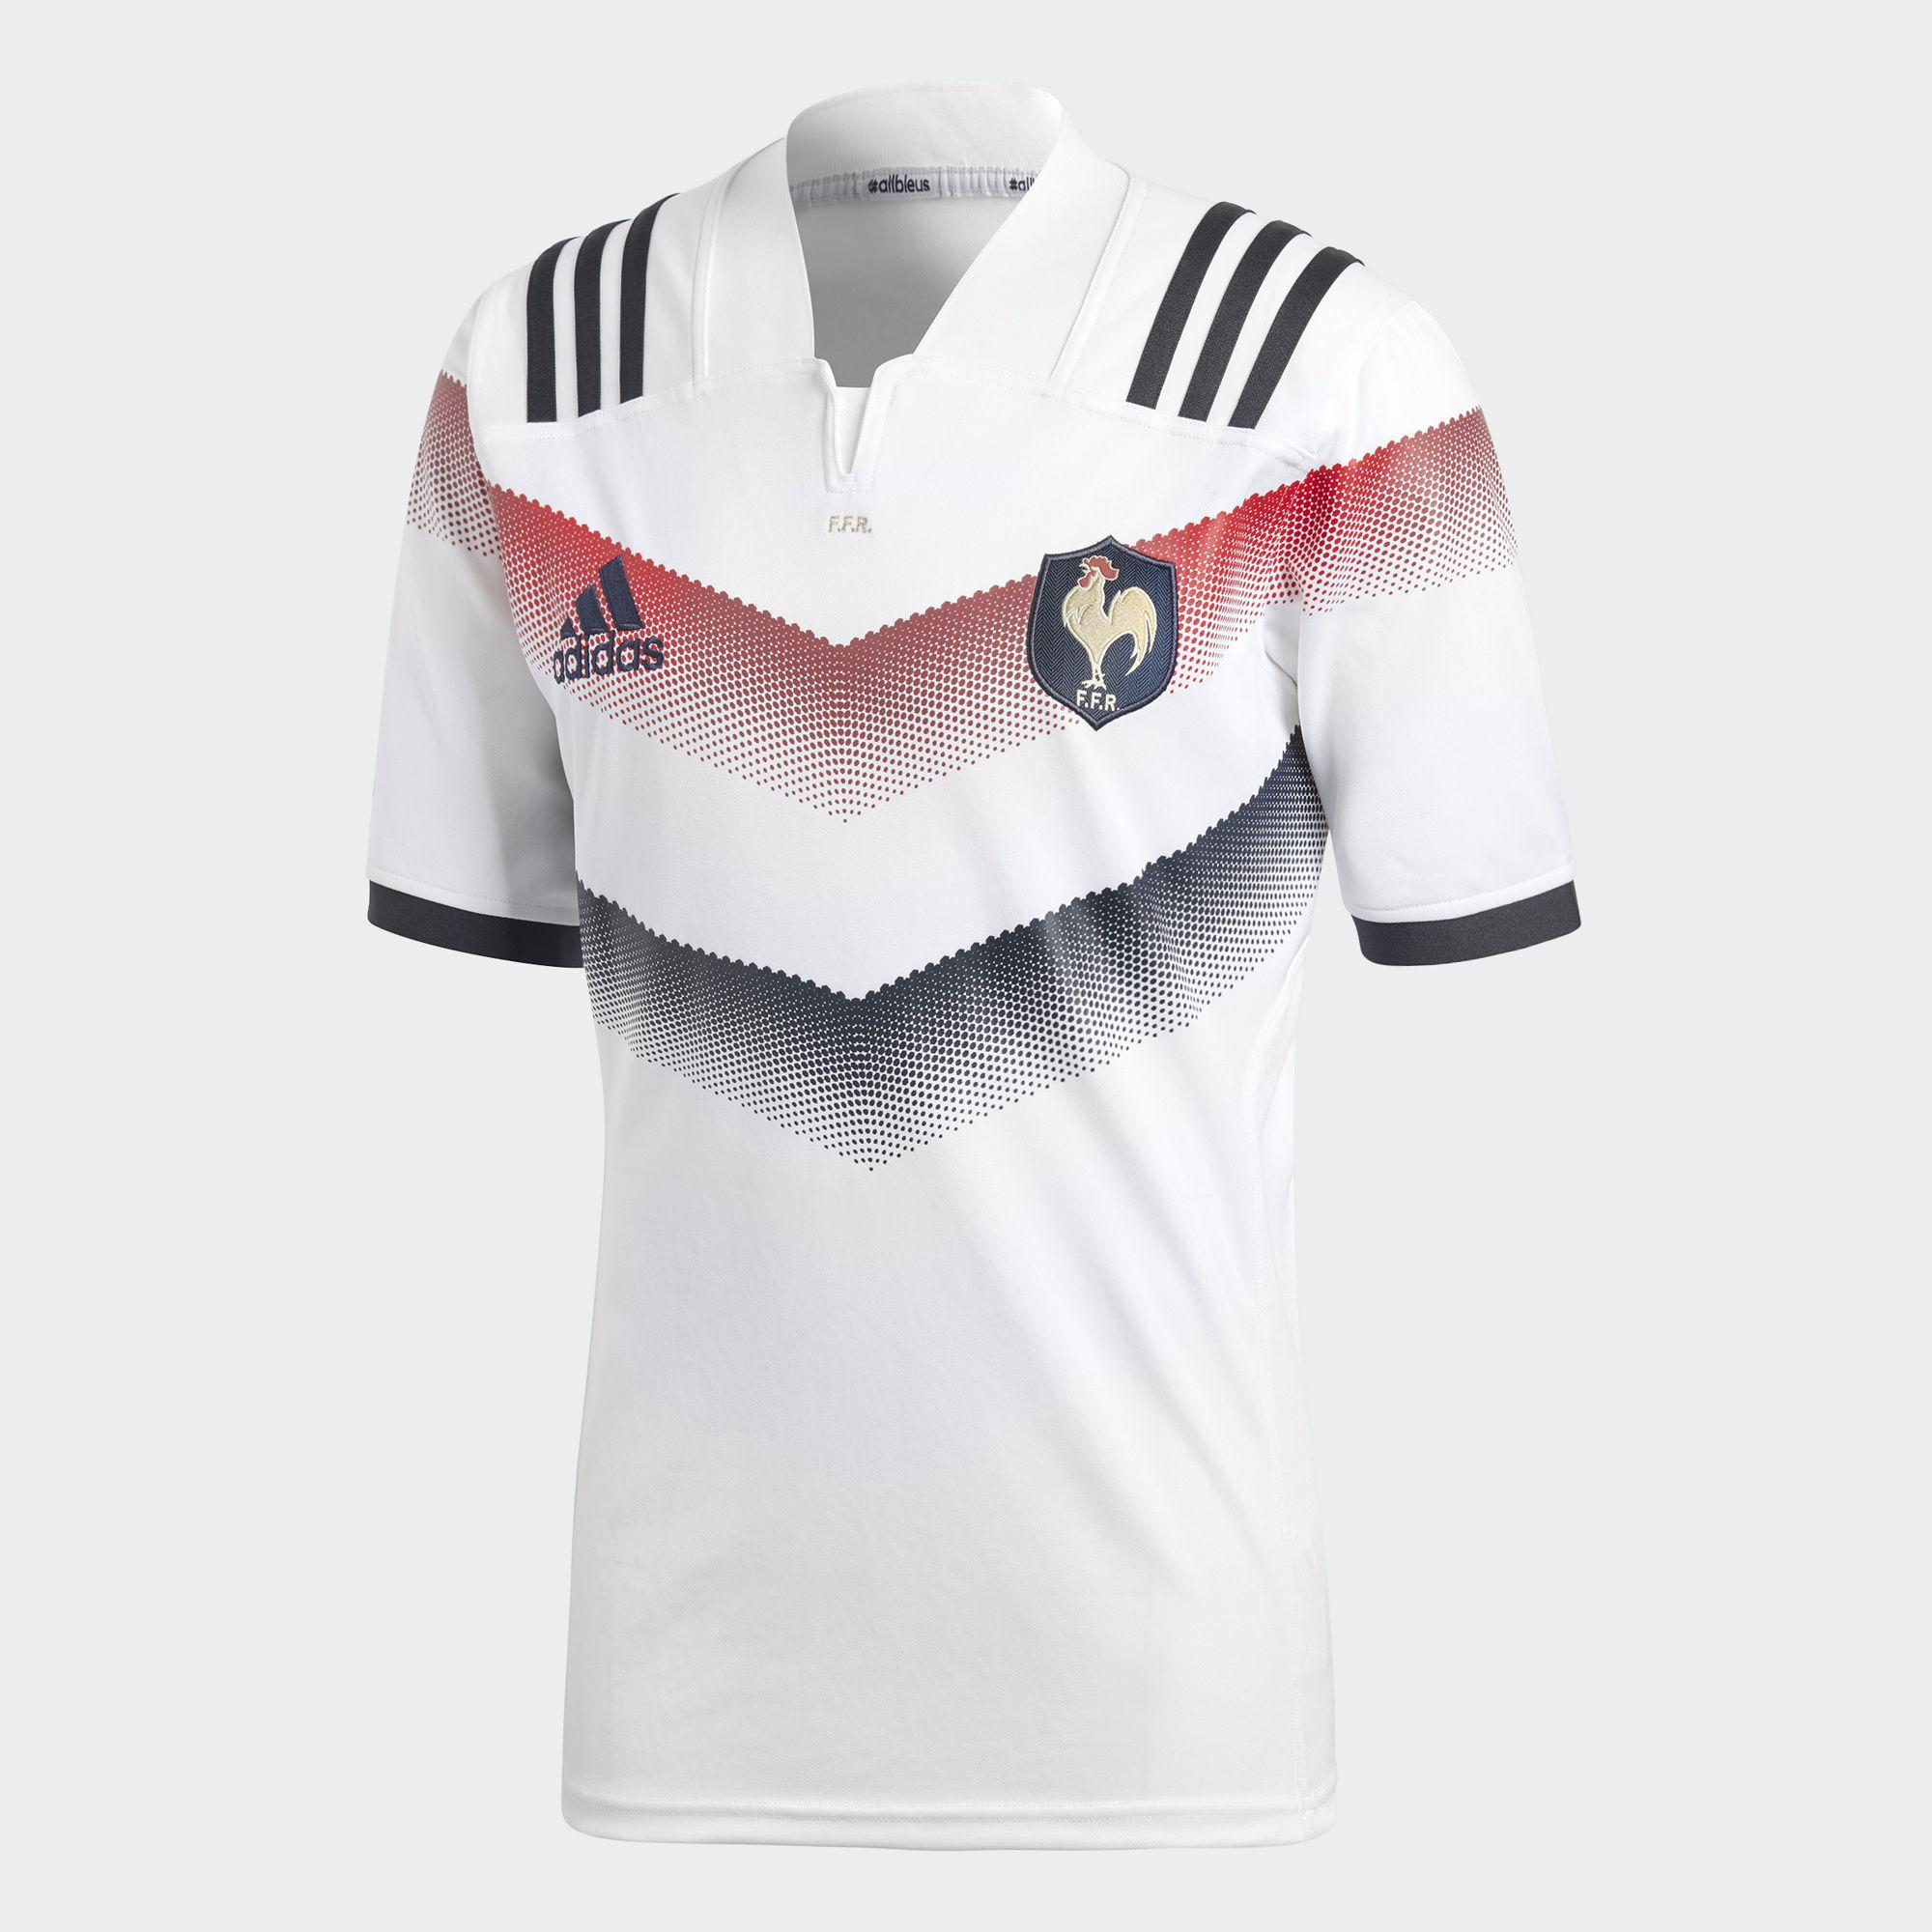teeshirt: (299, 76, 1644, 1840)
